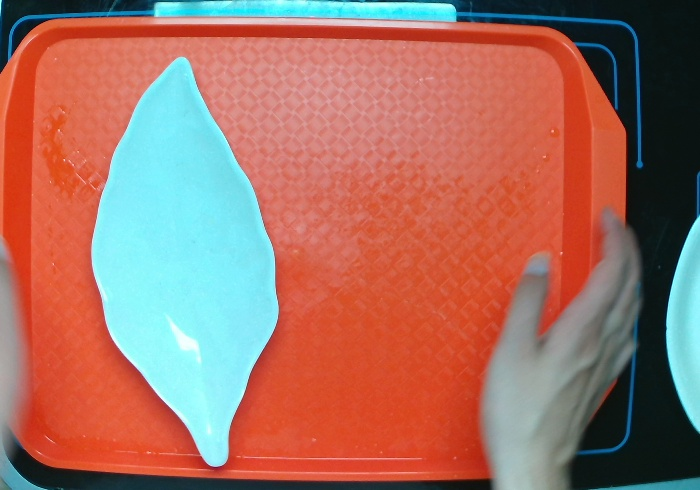RJxy-Shu_Ye_Pan: (80, 54, 287, 490)
